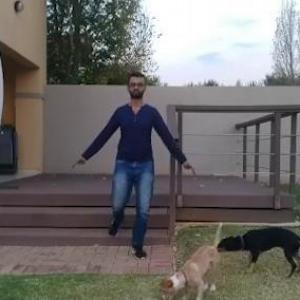land: (90, 81, 176, 243)
